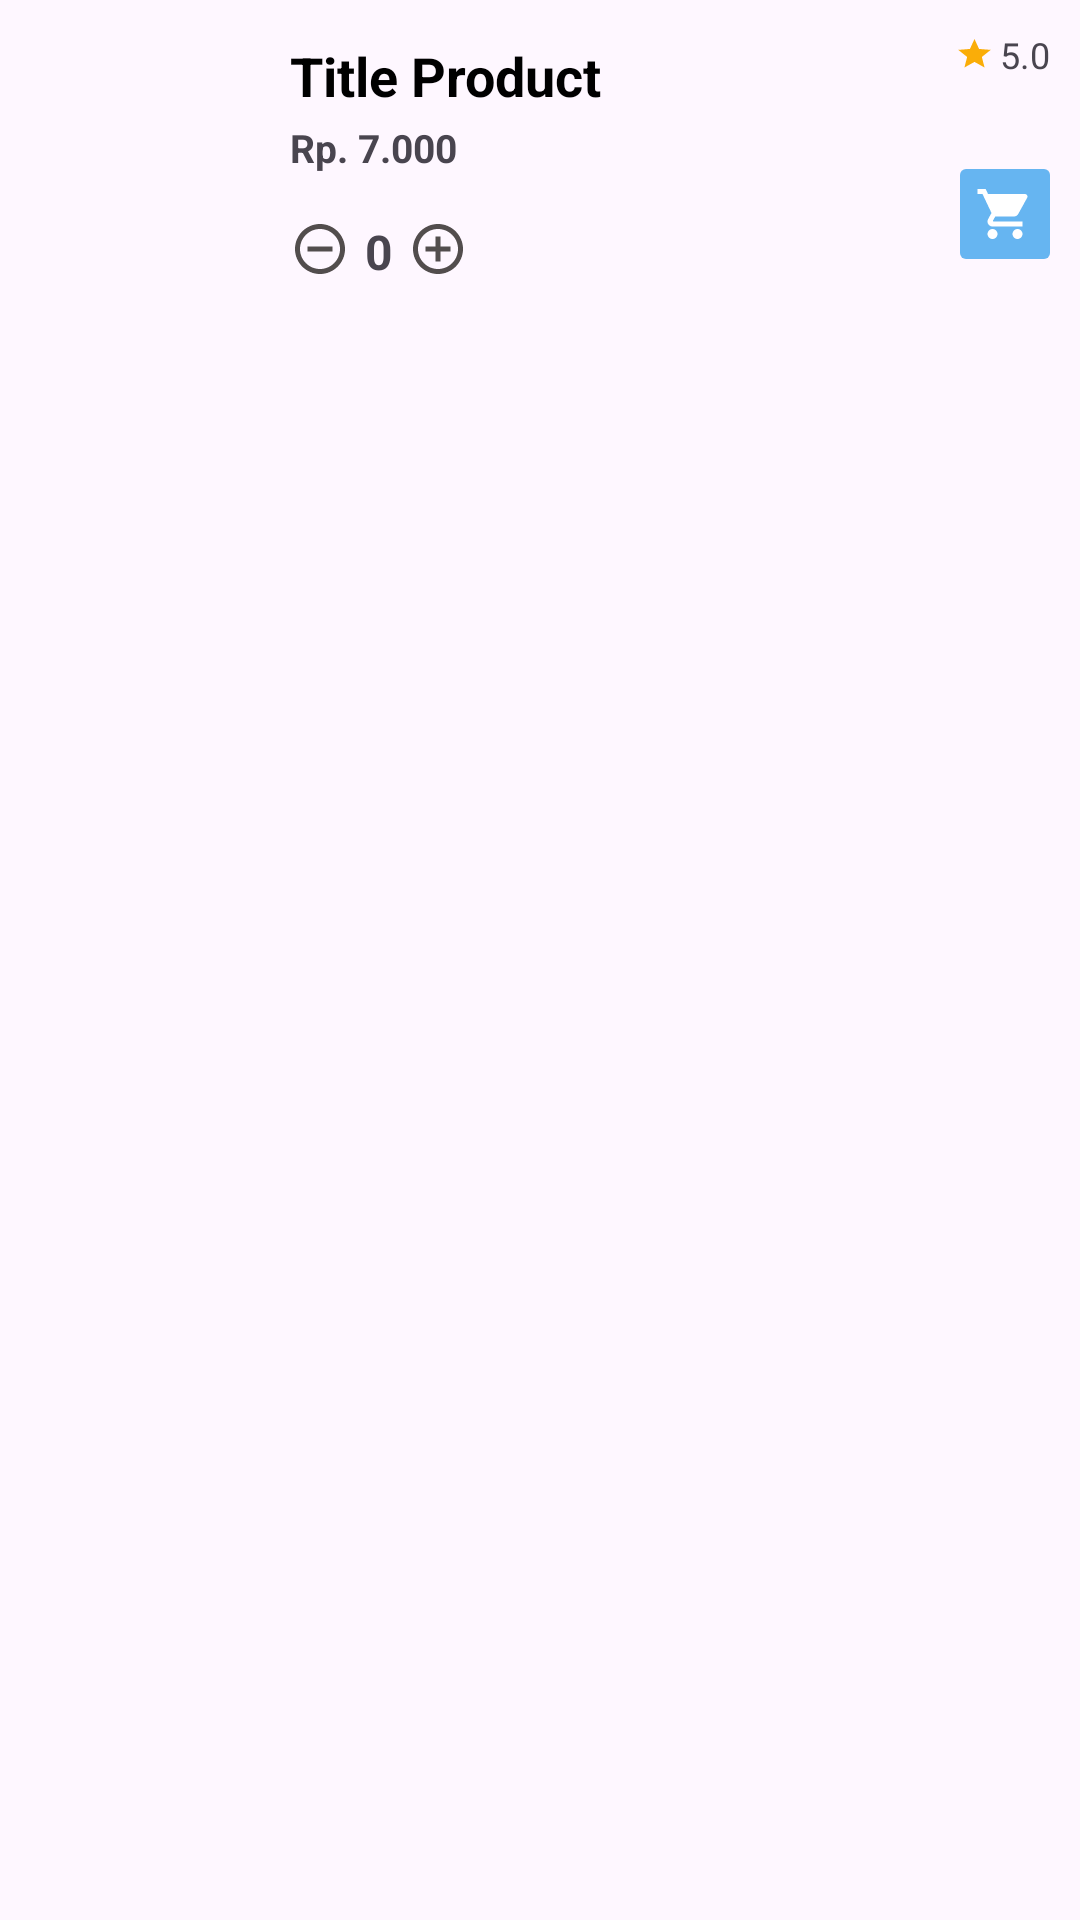

Where to tap for icons on this 1080px x 1920px app screen, as [x,y]:
cart: [1005,214]
circle: [320,249]
circle add: [438,249]
